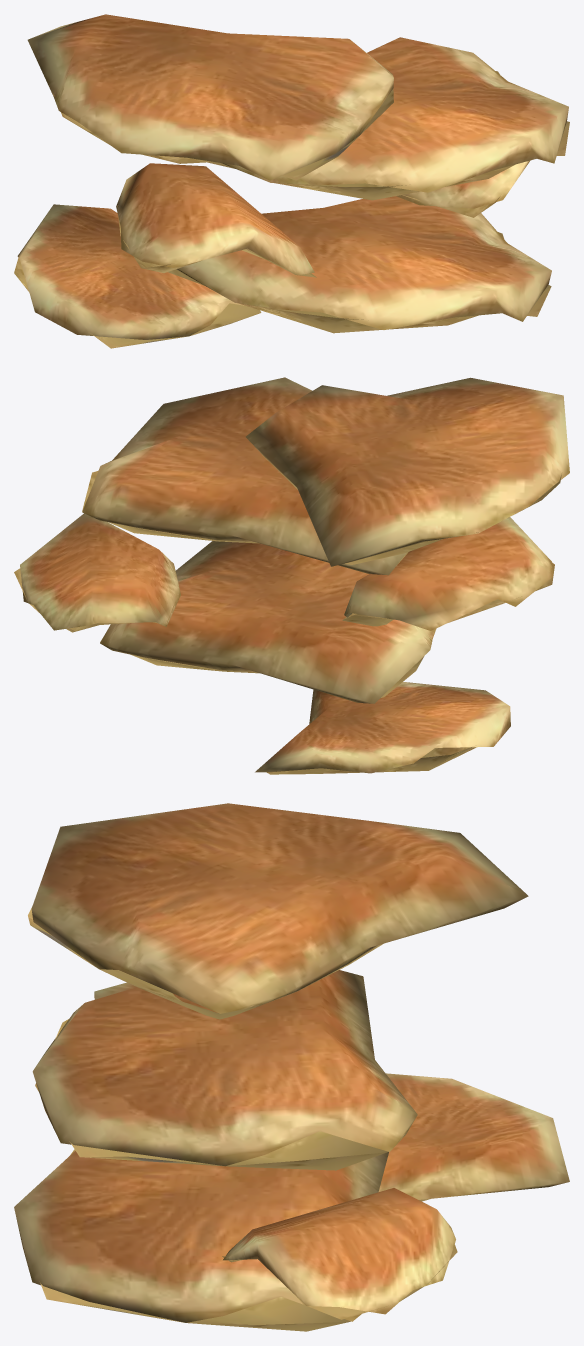
File: hias-jamur-2.glb
3 views of the same model, one above another, from view 1: azimuth 30°, elevation 25°; view 2: azimuth 150°, elevation 25°; view 3: azimuth 270°, elevation 25° (orthographic). The views are drawn at different scales.
Visible parts, largest first — view 1: Mushroom_Laetiporus; view 2: Mushroom_Laetiporus; view 3: Mushroom_Laetiporus.
Part boxes in pixels (x1,y1,x2,y2): Mushroom_Laetiporus: [14, 14, 569, 348]; Mushroom_Laetiporus: [14, 377, 569, 774]; Mushroom_Laetiporus: [14, 803, 569, 1331].
Size of the model in its own units: 0.401 by 0.217 by 0.3205.
1 material, 1 textured.
